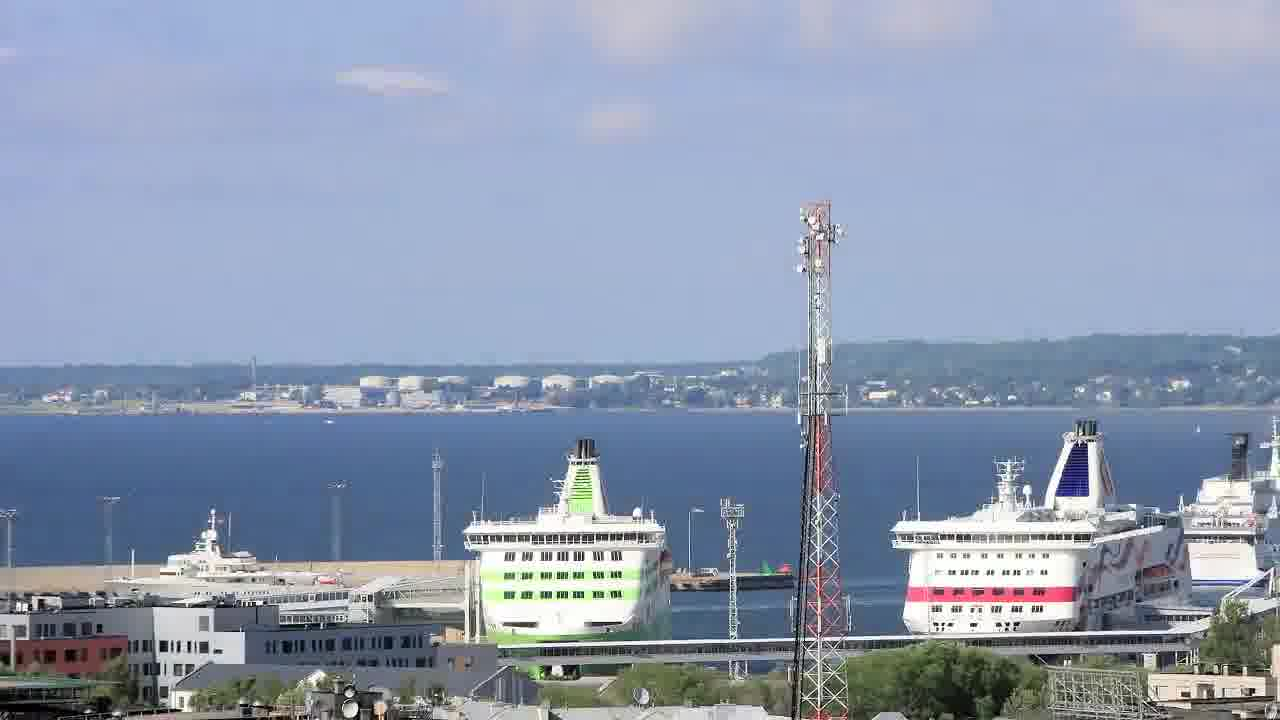type-3: (868, 415, 1225, 638), (436, 434, 694, 670), (91, 505, 380, 637), (1163, 410, 1280, 587)
